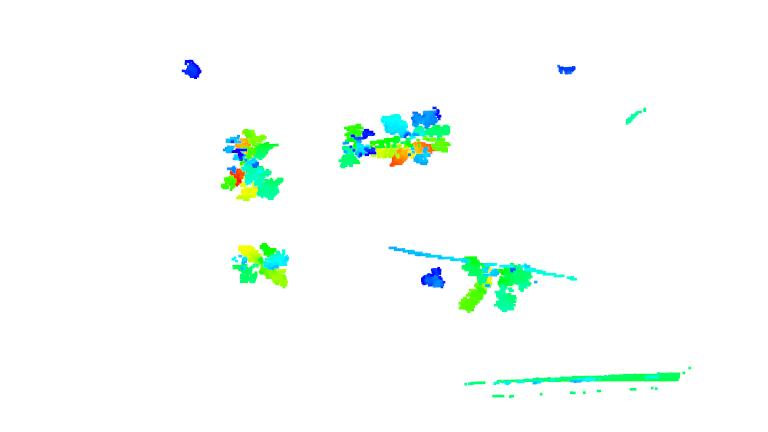chickpea: (374, 105, 457, 173), (214, 129, 282, 204), (229, 236, 292, 291), (452, 252, 499, 311), (329, 122, 377, 176), (498, 264, 540, 312), (417, 264, 451, 292)
